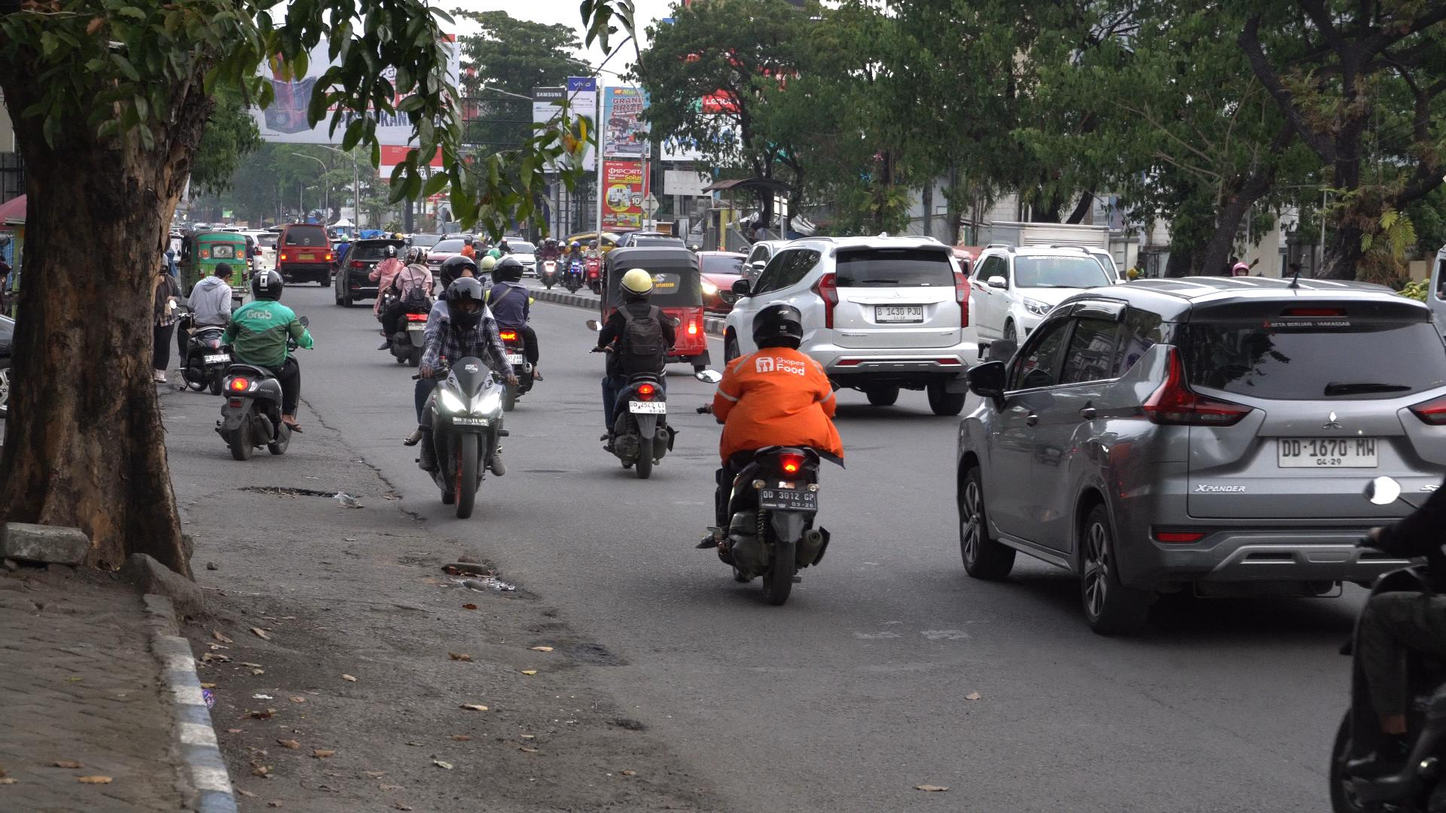number-plate: (456, 412, 492, 427)
